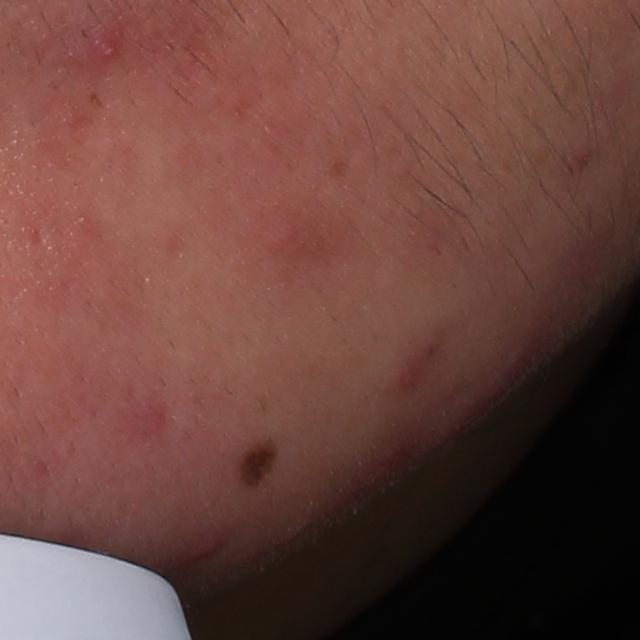nevus: (239, 432, 286, 486)
papule: (389, 336, 444, 397), (85, 32, 120, 70)
